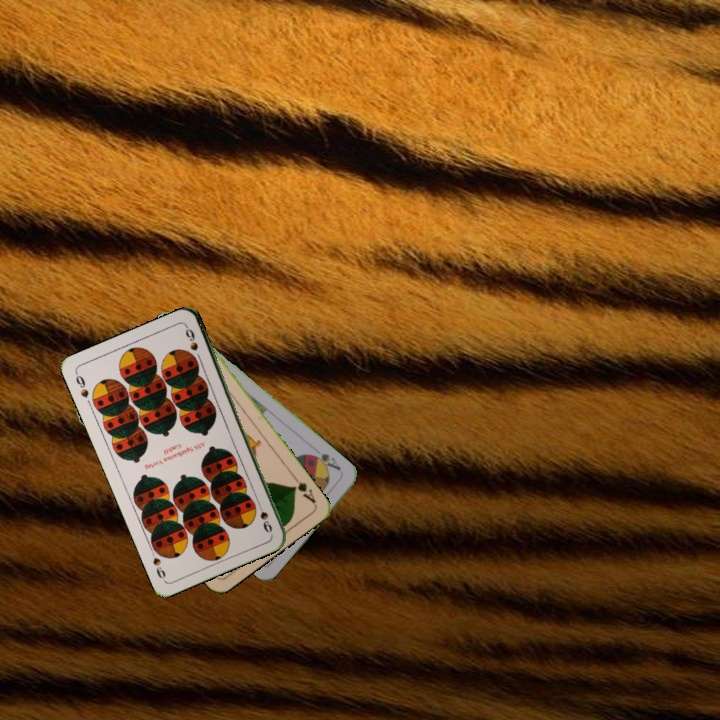GA: (289, 472, 318, 506)
S9: (253, 497, 275, 535), (72, 369, 91, 400)
SA: (307, 449, 345, 476)
